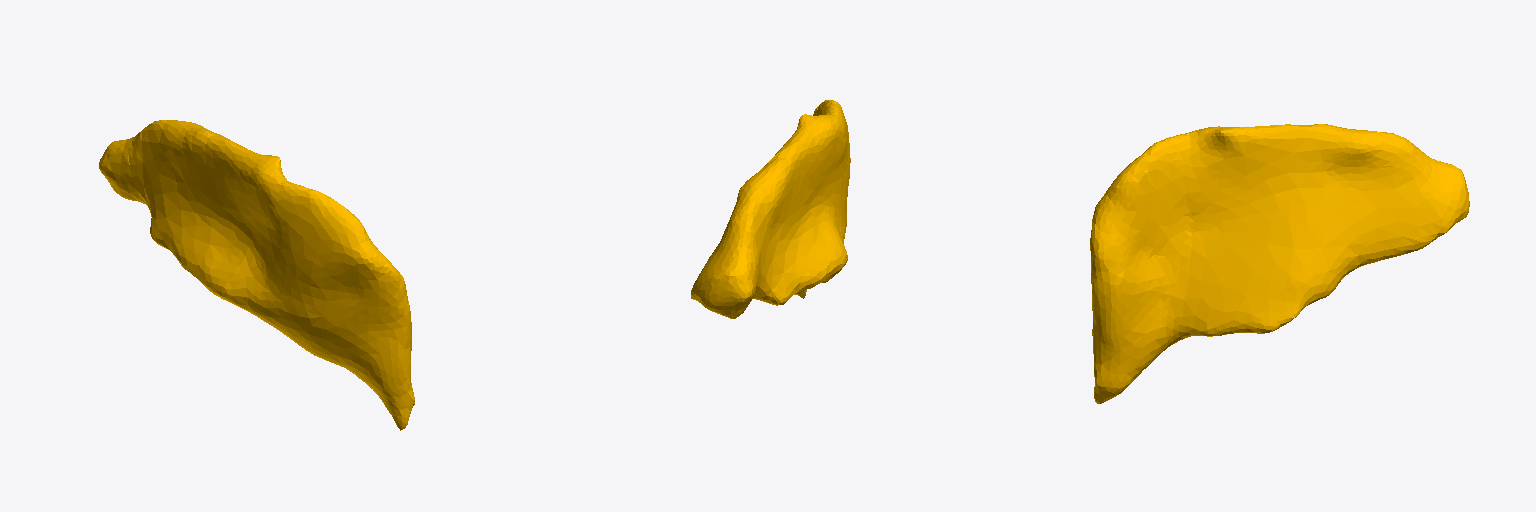
The model's file is 肾上腺.obj.
3 renders of one model, left to right at view 1: azimuth 30°, elevation 25°; view 2: azimuth 150°, elevation 25°; view 3: azimuth 270°, elevation 25°, orthographic.
Bounding box in the file's own units: 14.12 × 23.74 × 33.49.